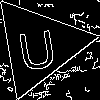U: (14, 20, 59, 72)
